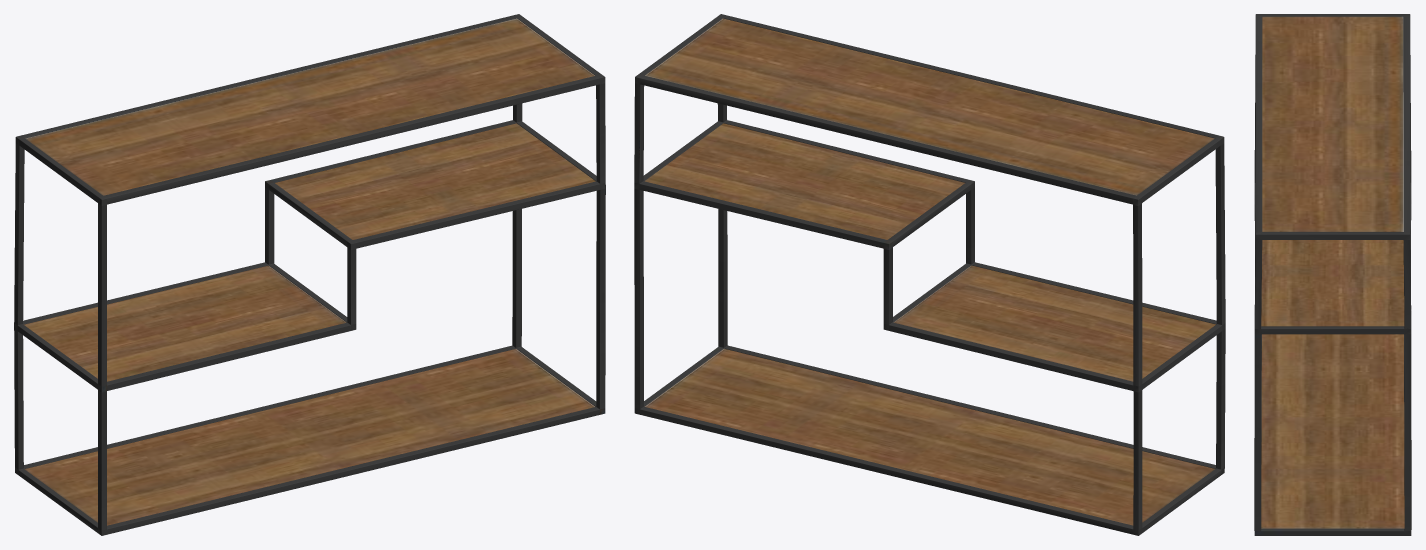
3 renders of one model, left to right at view 1: azimuth 30°, elevation 25°; view 2: azimuth 150°, elevation 25°; view 3: azimuth 270°, elevation 25°, orthographic. The views are drawn at different scales.
Visible parts, largest first — view 1: visual_RootNode; view 2: visual_RootNode; view 3: visual_RootNode.
Part boxes in pixels (<box>): visual_RootNode: <box>14,14,605,535</box>; visual_RootNode: <box>634,14,1225,535</box>; visual_RootNode: <box>1254,14,1411,535</box>.
Size of the model in its own units: 1.2 by 0.3606 by 0.7649.
Materials: 1 (1 with a texture image).
